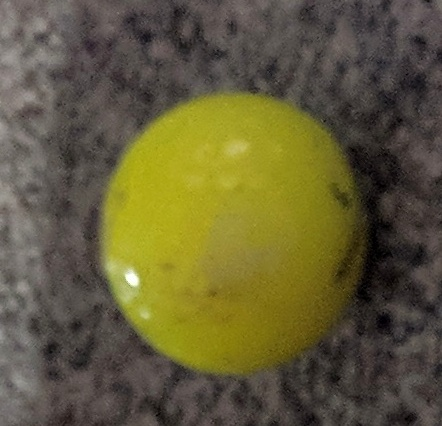ball: (98, 93, 371, 378)
